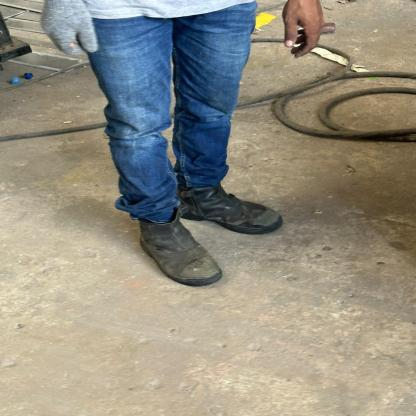bota: (119, 206, 232, 302), (164, 180, 282, 235)
